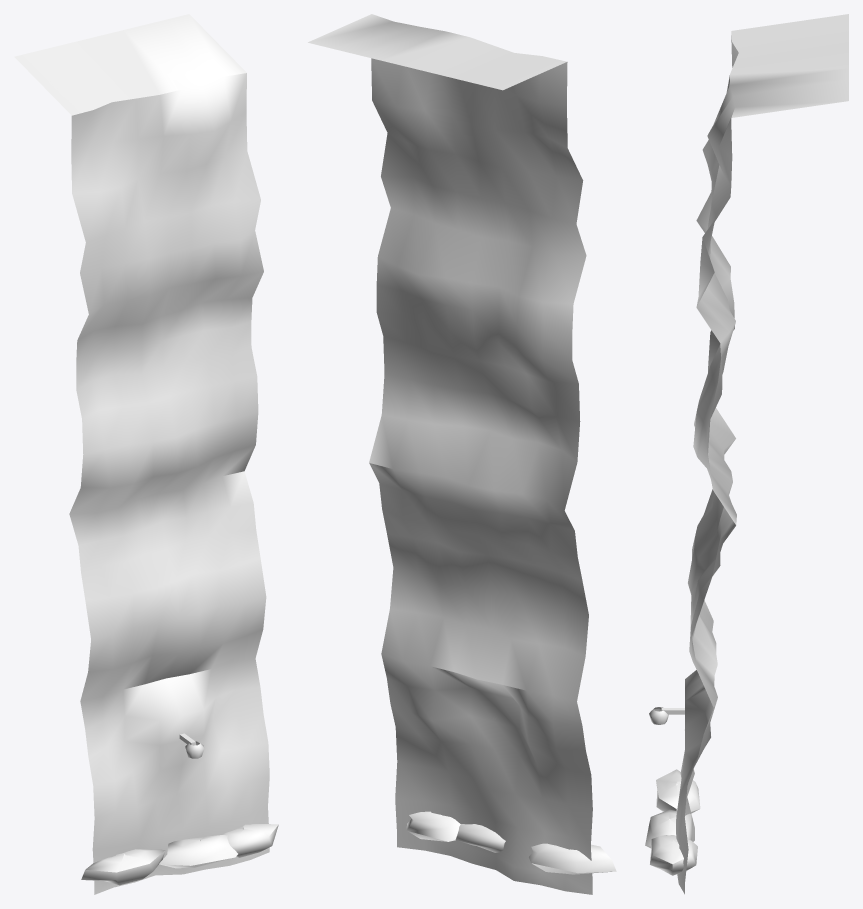
File: cliff_lamp.glb
3 renders of one model, left to right at view 1: azimuth 30°, elevation 25°; view 2: azimuth 150°, elevation 25°; view 3: azimuth 270°, elevation 25°, orthographic. The views are drawn at different scales.
Parts seen in each view (by area): view 1: CliffLamp; view 2: CliffLamp; view 3: CliffLamp.
Part boxes in pixels (x1=…): CliffLamp: x1=14, y1=14, x2=278, y2=894; CliffLamp: x1=308, y1=14, x2=616, y2=894; CliffLamp: x1=645, y1=14, x2=848, y2=894.
Bounding box in the file's own units: 4.92 × 18.7 × 4.35.
Materials: 1 (1 with a texture image).
